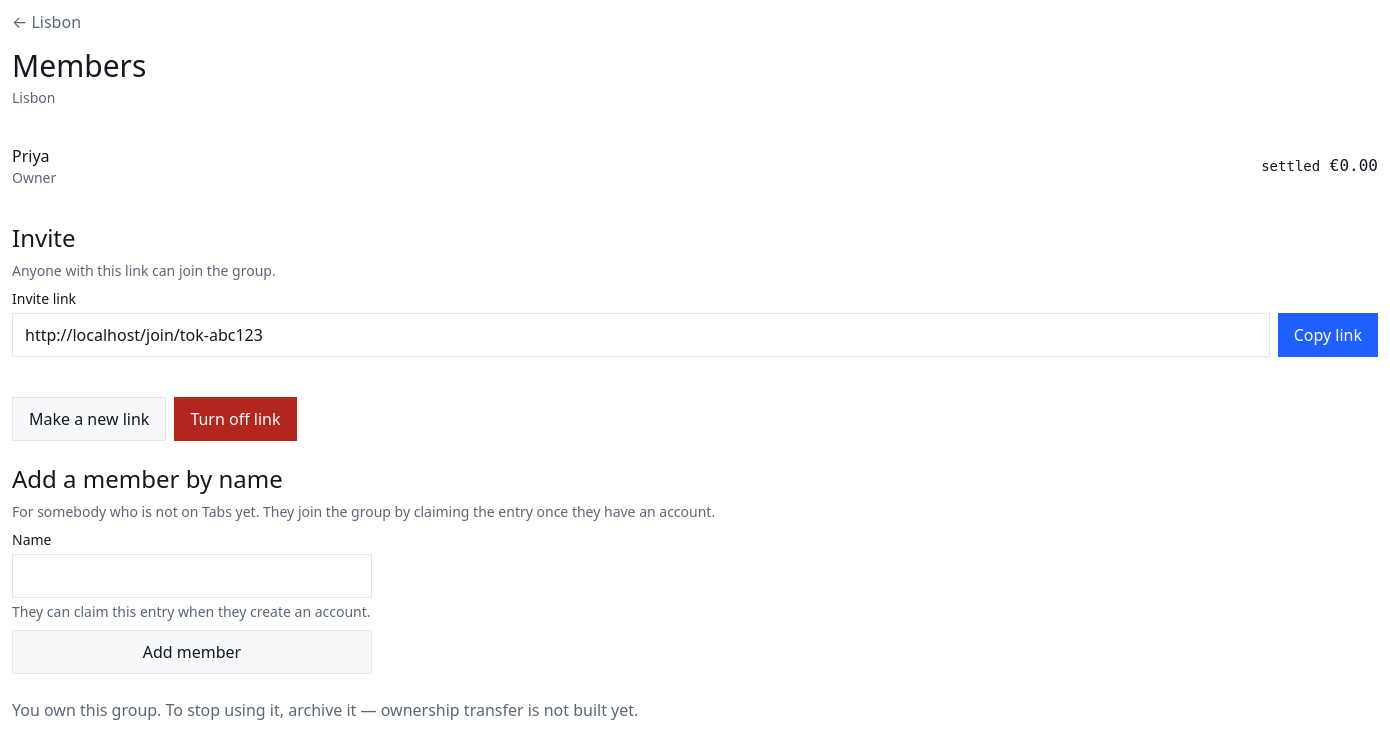
Test: the invite block › falls back to a manual copy instruction when there is no clipboard to write to
Click the button "Copy link".
click(1328, 335)  # box top-left (1278, 313), bottom-right (1378, 357)
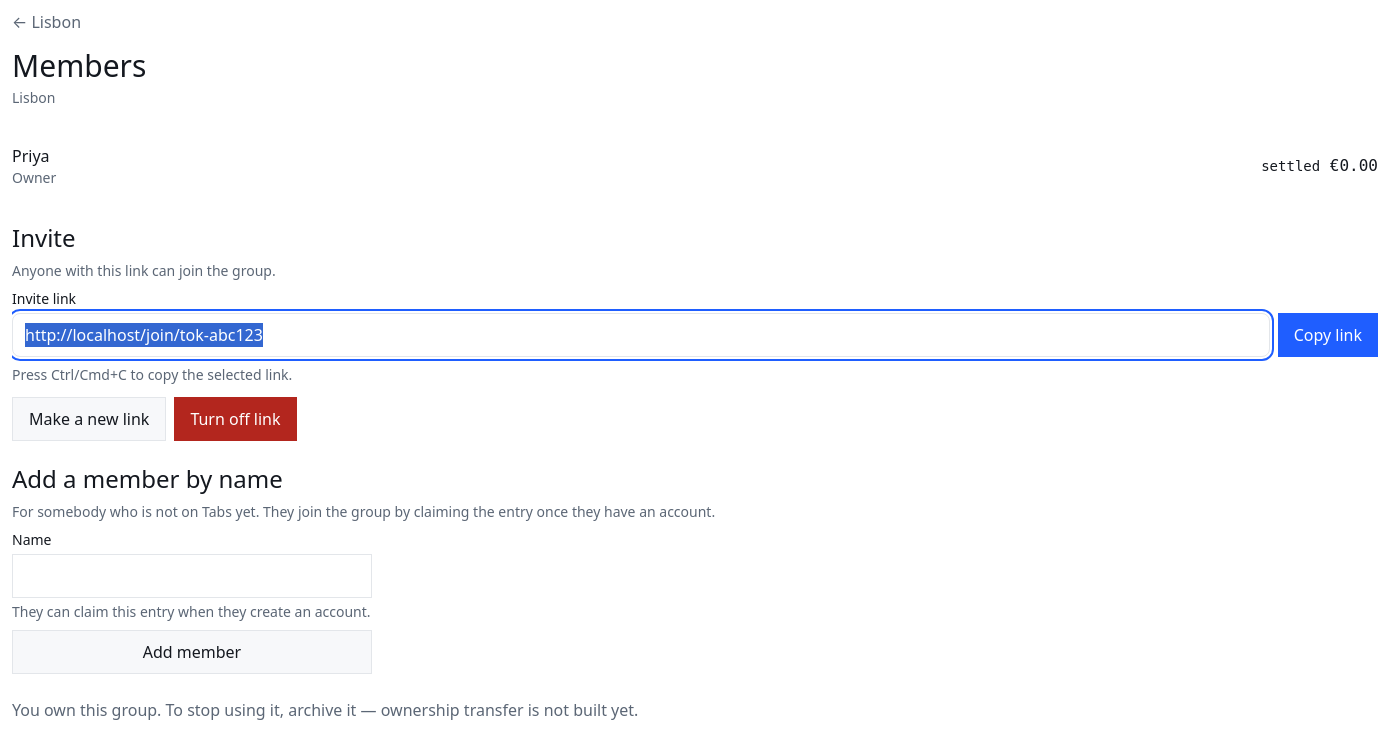
Check: the message reads "Press Ctrl/Cmd+C to copy the selected link.", box top-left (12, 365), bottom-right (292, 384)
